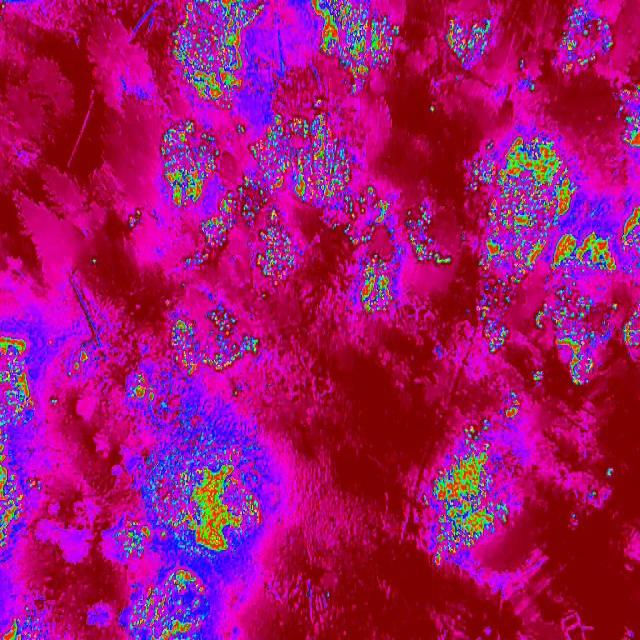fire: (464, 133, 617, 278), (112, 430, 266, 562), (424, 417, 514, 568), (235, 116, 354, 220), (169, 0, 260, 106), (0, 333, 43, 556), (307, 0, 403, 98), (533, 278, 607, 388), (164, 303, 262, 375), (127, 572, 211, 640), (160, 120, 224, 202), (127, 372, 196, 432), (561, 0, 615, 70), (474, 278, 523, 354), (253, 222, 304, 286), (402, 204, 454, 266), (444, 16, 496, 64), (358, 256, 397, 314), (2, 605, 58, 640), (616, 82, 640, 150), (202, 196, 234, 246), (353, 184, 391, 223), (620, 206, 640, 273), (330, 220, 376, 244), (621, 304, 640, 360), (67, 346, 93, 376), (502, 389, 522, 422), (182, 249, 208, 266), (127, 208, 143, 232), (605, 464, 616, 478), (322, 589, 332, 603), (610, 300, 619, 314), (584, 490, 596, 500), (518, 58, 526, 72), (230, 390, 241, 400), (528, 80, 537, 92), (48, 398, 58, 408), (314, 98, 324, 107), (0, 0, 6, 12), (429, 106, 437, 114), (90, 258, 98, 264), (571, 512, 577, 519), (260, 292, 266, 298)
